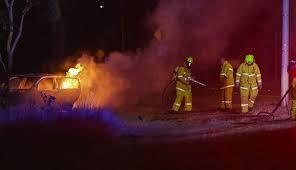fire: (58, 62, 84, 89)
